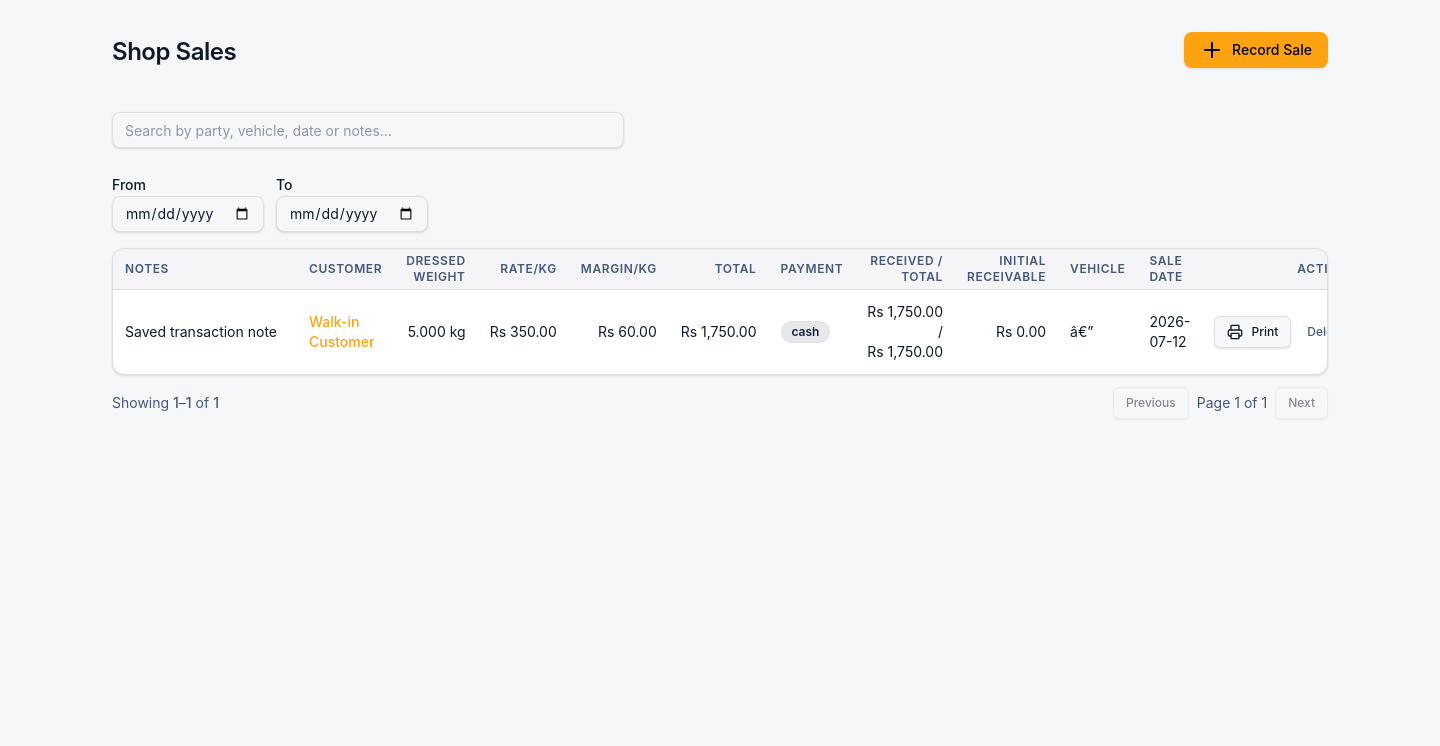
ShopSalesPage › shows inline new customer form when toggled
expect the text "Saved transaction note" is shown: met, box x1=125 y1=322 x2=285 y2=342
Click the button "Record Sale": point(1256, 50) x1=1184 y1=32 x2=1328 y2=68
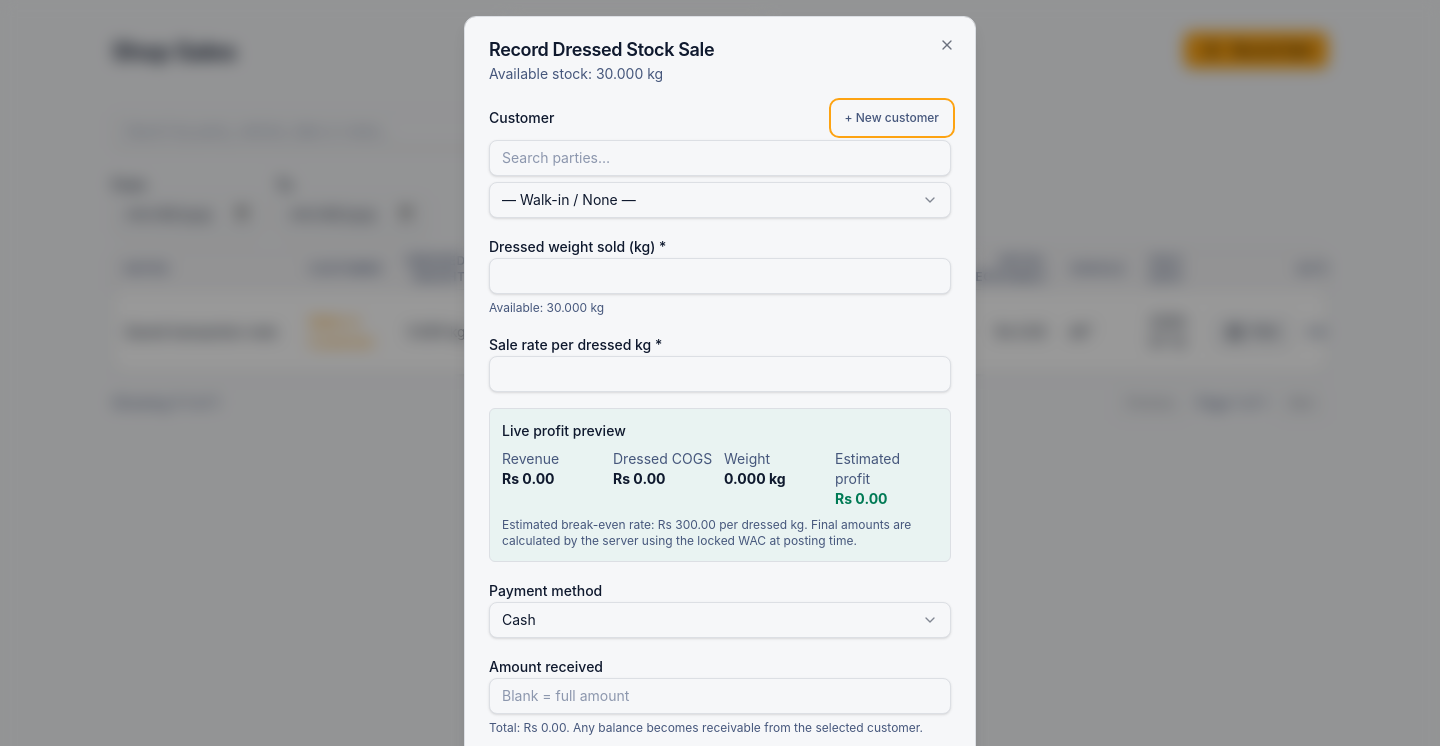
Click the button "+ New customer": point(892, 118) x1=832 y1=102 x2=951 y2=134
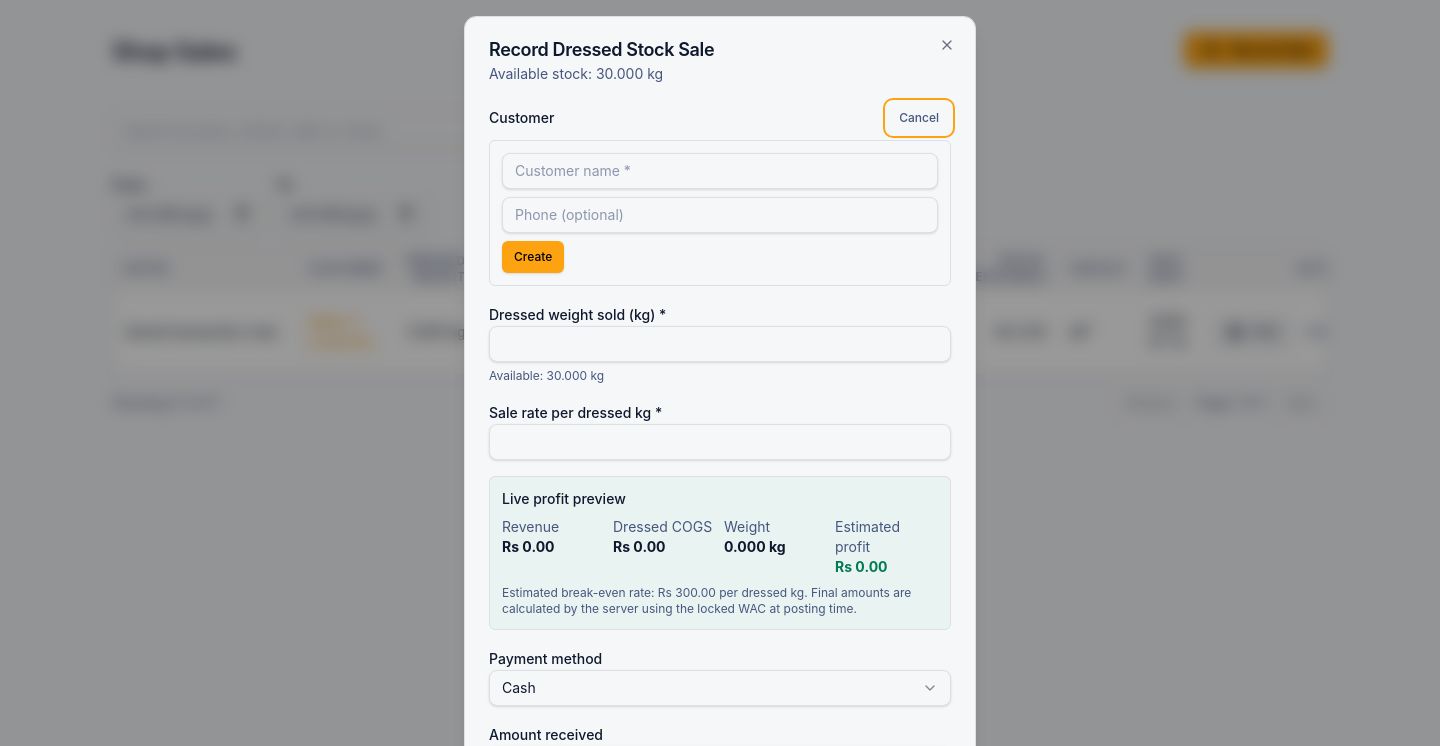
expect the field with placeholder "Customer name *" is shown: met, box x1=502 y1=153 x2=938 y2=189
